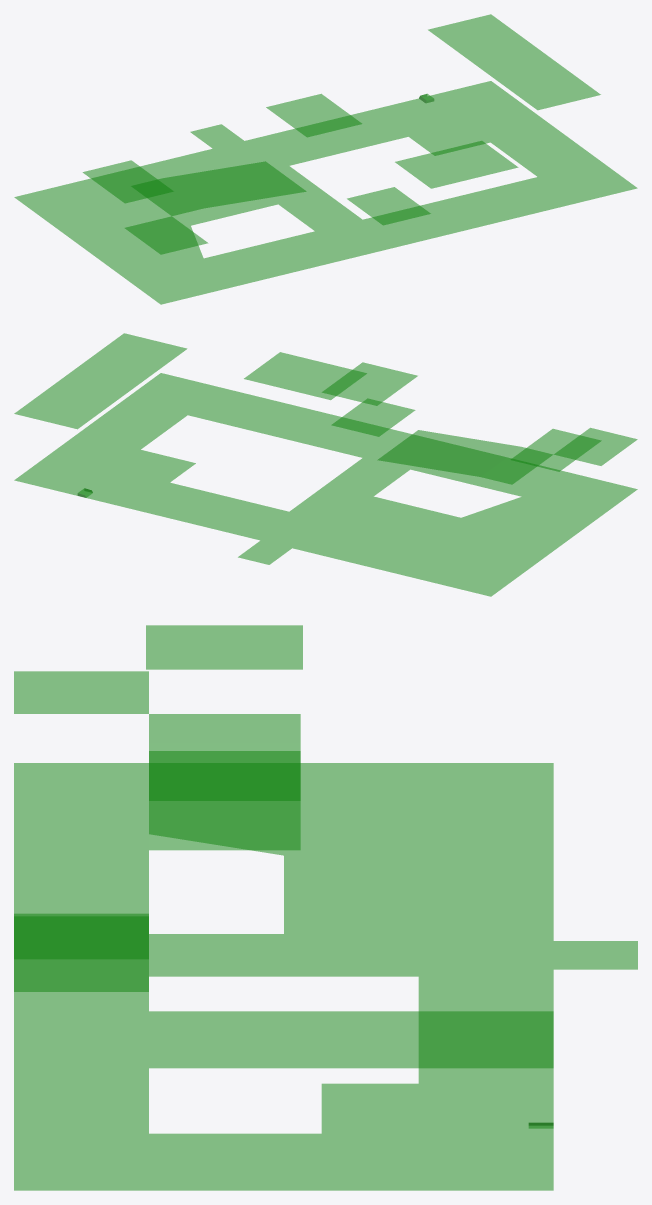
Rendered from road_A03.obj.
The picture shows the model from 3 angles, top to bottom: view 1: azimuth 30°, elevation 25°; view 2: azimuth 150°, elevation 25°; view 3: azimuth 270°, elevation 25°; orthographic projection. The views are drawn at different scales.
Bounding box in the file's own units: 60 × 11.5 × 37.
